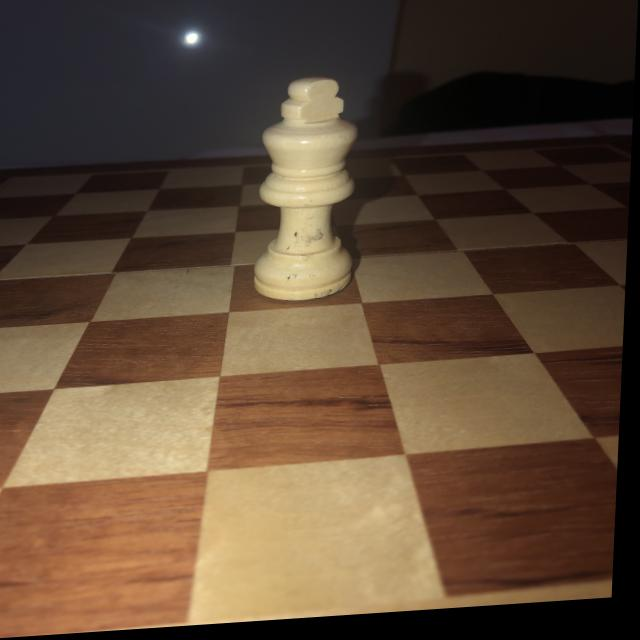white_king: (257, 79, 365, 309)
